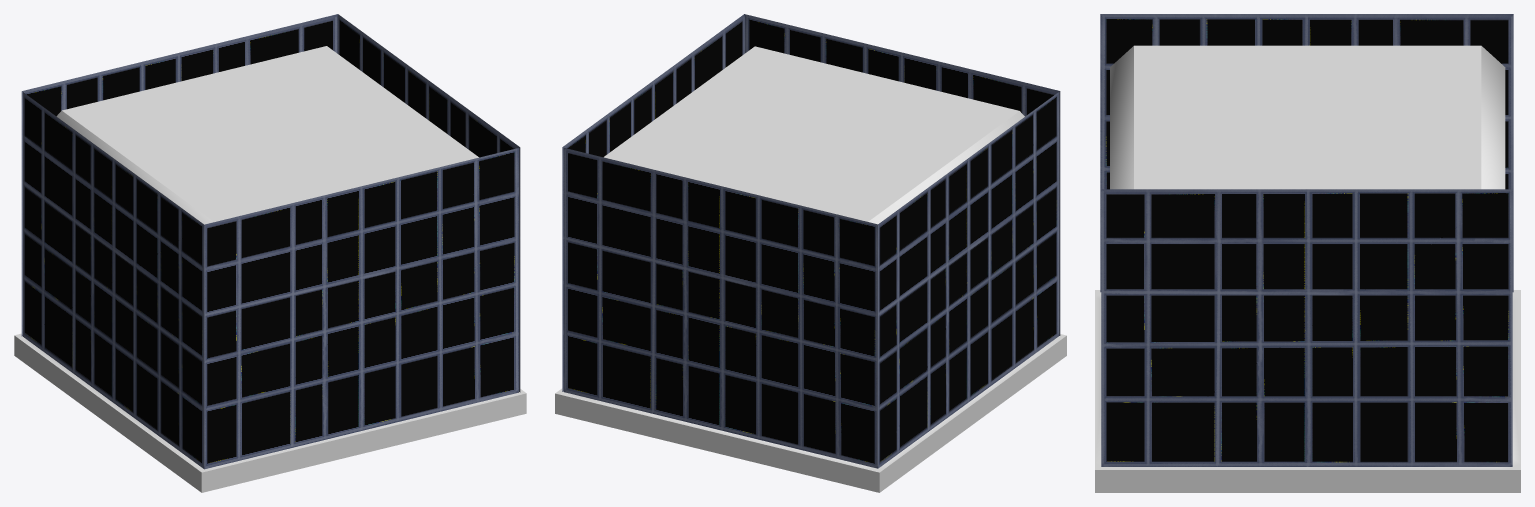
Rendered from Watertank01.fbx.
3 renders of one model, left to right at view 1: azimuth 30°, elevation 25°; view 2: azimuth 150°, elevation 25°; view 3: azimuth 270°, elevation 25°, orthographic. The views are drawn at different scales.
Parts seen in each view (by area): view 1: Watertank01; view 2: Watertank01; view 3: Watertank01.
Boxes of the visible parts, <box> form: Watertank01: <box>14,14,526,492</box>; Watertank01: <box>555,14,1066,492</box>; Watertank01: <box>1095,14,1520,492</box>.
Bounding box in the file's own units: 2 × 1.56 × 2.
Materials: 2 (1 with a texture image).
